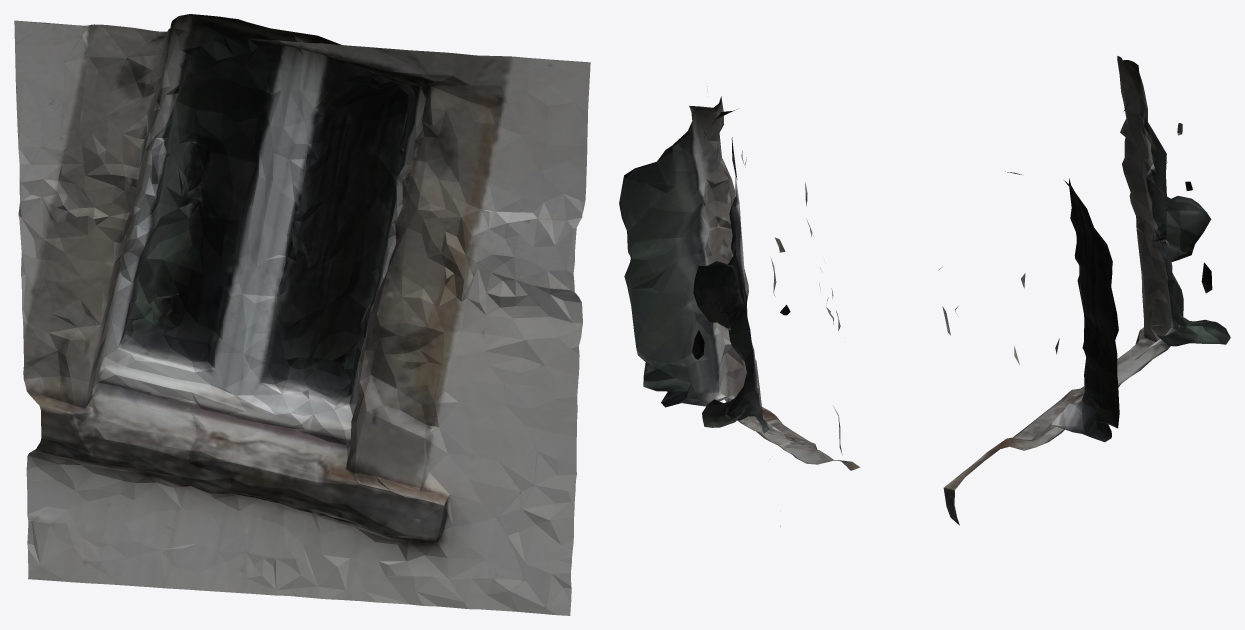
The picture shows the model from 3 angles, left to right: view 1: azimuth 30°, elevation 25°; view 2: azimuth 150°, elevation 25°; view 3: azimuth 270°, elevation 25°; orthographic projection. The views are drawn at different scales.
Bounding box in the file's own units: 1.24 × 1.67 × 1.14.
3 materials, 3 textured.
